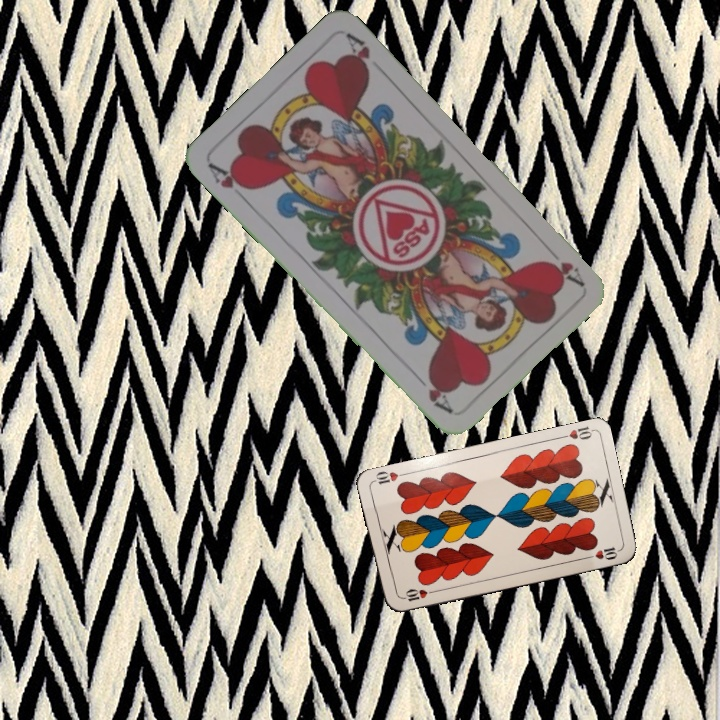H10: (554, 423, 595, 442), (397, 585, 437, 604)
HA: (204, 159, 254, 206), (540, 240, 586, 289)
